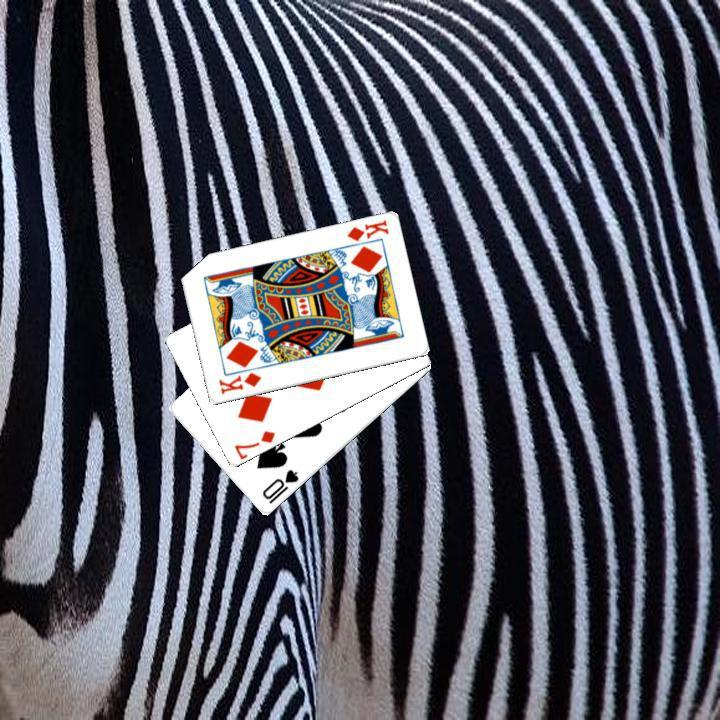10: (258, 465, 301, 506)
7: (230, 426, 277, 460)
K: (214, 368, 263, 396), (342, 216, 390, 244)
